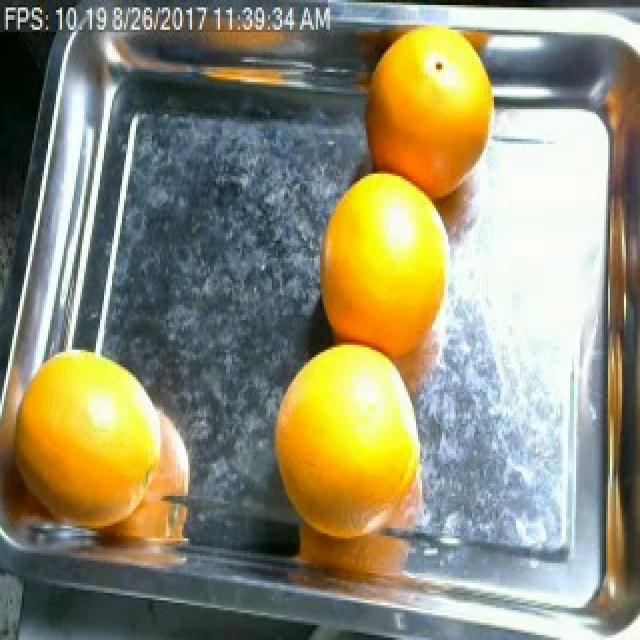Fruit: (256, 330, 436, 541), (346, 17, 508, 231), (302, 156, 460, 362)
